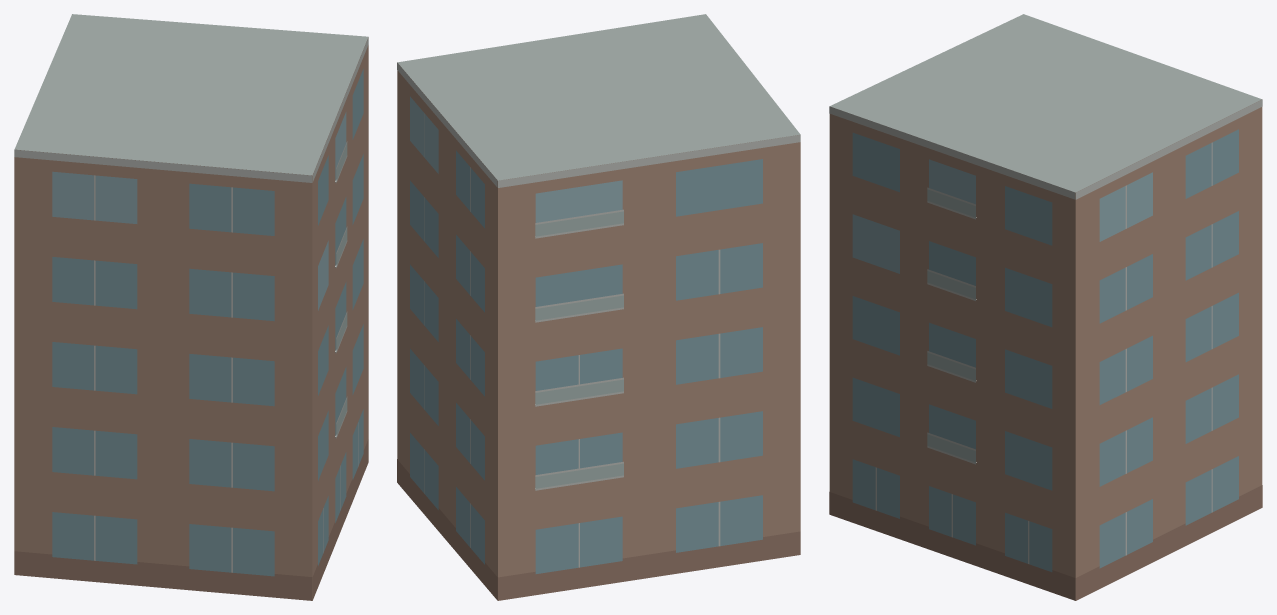
File: survey-upis-32882411.glb
3 renders of one model, left to right at view 1: azimuth 30°, elevation 25°; view 2: azimuth 150°, elevation 25°; view 3: azimuth 270°, elevation 25°, orthographic. The views are drawn at different scales.
Visible parts, largest first — view 1: survey-upis-32882411.tmp; view 2: survey-upis-32882411.tmp; view 3: survey-upis-32882411.tmp.
Boxes of the visible parts, x1,y1,x2,y2 form: survey-upis-32882411.tmp: [14, 14, 368, 600]; survey-upis-32882411.tmp: [397, 14, 800, 600]; survey-upis-32882411.tmp: [829, 14, 1262, 600].
Size of the model in its own units: 12.86 by 13.7 by 13.17.
